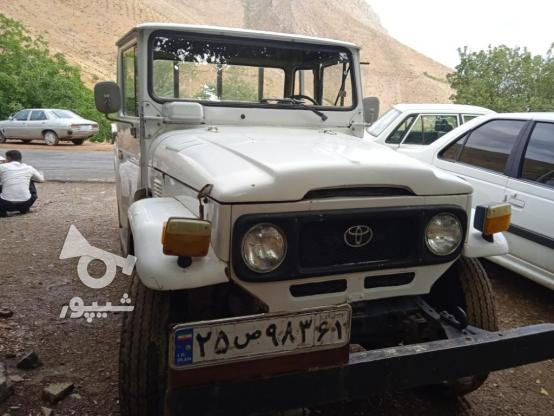car: (168, 304, 353, 370)
